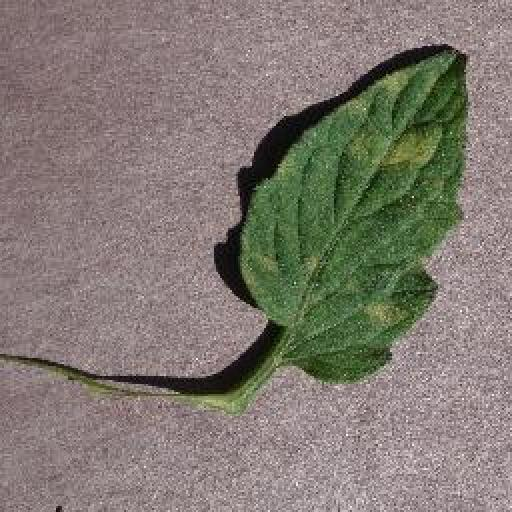Leaf Mold: (240, 47, 474, 381)
